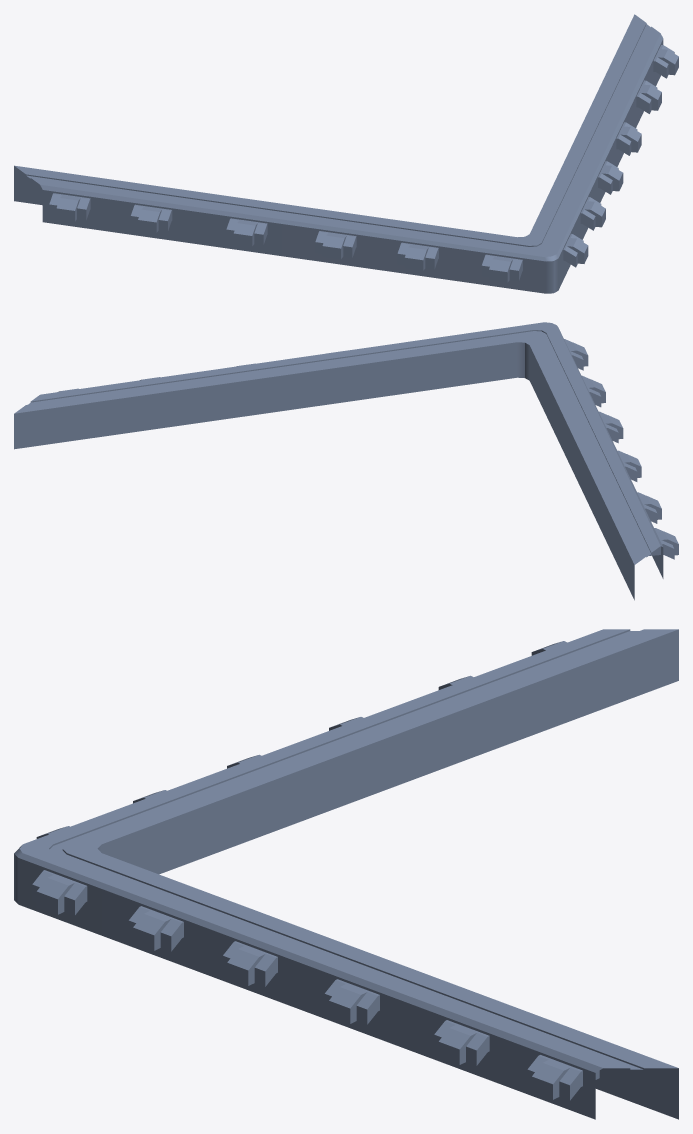
Rendered from Fbx_Boss_Room_Shield.fbx.
3 views of the same model, one above another, from view 1: azimuth 30°, elevation 25°; view 2: azimuth 150°, elevation 25°; view 3: azimuth 270°, elevation 25° (orthographic). The views are drawn at different scales.
Visible parts, largest first — view 1: Base, pCube124, pCube123, pCube125, pCube122, pCube121, pCube116; view 2: Base, pCube125, pCube124, pCube123; view 3: Base, pCube125, pCube124, pCube123, pCube122, pCube121, pCube116.
Boxes of the visible parts, x1=… form: Base: x1=14, y1=14, x2=663, y2=293; pCube124: x1=130, y1=80, x2=661, y2=233; pCube123: x1=226, y1=122, x2=641, y2=246; pCube125: x1=49, y1=45, x2=678, y2=221; pCube122: x1=315, y1=161, x2=623, y2=259; pCube121: x1=397, y1=197, x2=605, y2=270; pCube116: x1=481, y1=234, x2=588, y2=282; Base: x1=14, y1=322, x2=663, y2=600; pCube125: x1=58, y1=388, x2=678, y2=559; pCube124: x1=140, y1=377, x2=661, y2=523; pCube123: x1=237, y1=363, x2=641, y2=481; Base: x1=14, y1=629, x2=678, y2=1119; pCube125: x1=527, y1=641, x2=599, y2=1100; pCube124: x1=434, y1=675, x2=489, y2=1065; pCube123: x1=324, y1=717, x2=379, y2=1024; pCube122: x1=222, y1=754, x2=277, y2=986; pCube121: x1=128, y1=790, x2=183, y2=951; pCube116: x1=32, y1=826, x2=87, y2=915.
Bounding box in the file's own units: 1841 × 100 × 1170.
